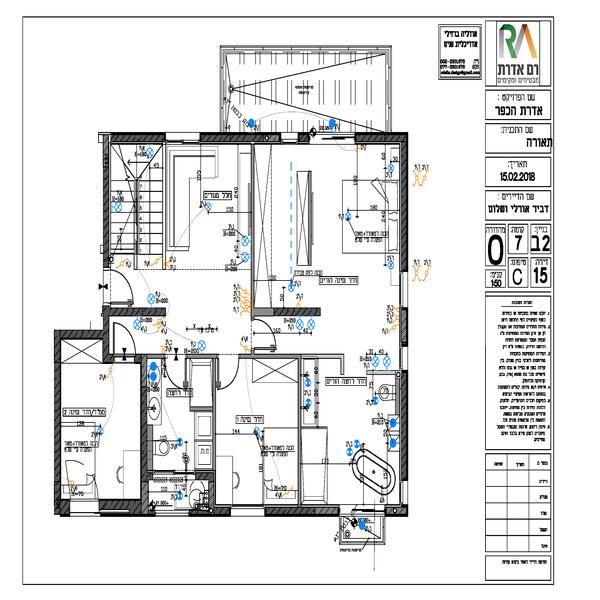door: (95, 271, 139, 306), (161, 352, 191, 393), (110, 322, 137, 367), (250, 316, 280, 353), (213, 356, 242, 388)
room: (248, 128, 405, 321), (99, 131, 258, 271), (48, 325, 148, 517), (297, 353, 408, 517), (208, 347, 304, 516), (137, 351, 219, 521), (102, 269, 254, 360)
wall: (140, 354, 151, 514), (53, 328, 62, 513), (398, 144, 408, 274), (202, 130, 277, 146), (399, 371, 408, 482), (297, 350, 303, 505), (103, 144, 109, 268), (108, 306, 165, 317), (109, 133, 164, 144), (267, 507, 341, 515), (57, 330, 106, 342), (356, 134, 407, 145), (102, 499, 137, 514), (245, 308, 319, 315), (236, 353, 304, 360), (102, 309, 110, 365), (397, 308, 409, 344), (212, 354, 214, 516), (307, 354, 343, 359)
window: (167, 132, 201, 147), (231, 503, 265, 518), (69, 499, 103, 513), (314, 134, 355, 145), (398, 273, 410, 306), (397, 346, 409, 369), (401, 483, 409, 503)
